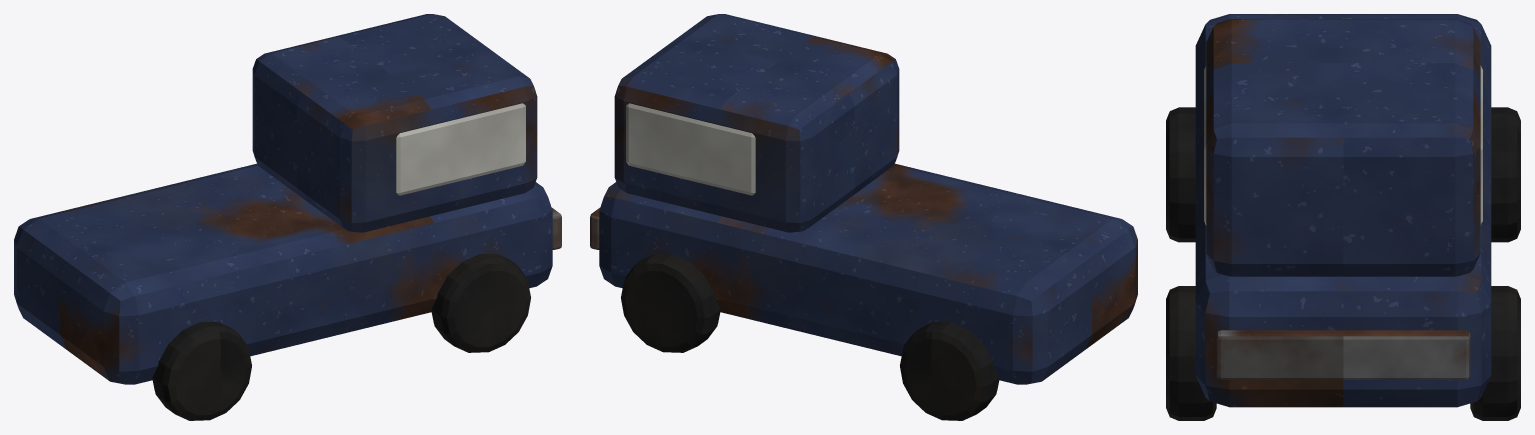
File: T10_toy_car_v2.glb
The picture shows the model from 3 angles, left to right: view 1: azimuth 30°, elevation 25°; view 2: azimuth 150°, elevation 25°; view 3: azimuth 270°, elevation 25°; orthographic projection. The views are drawn at different scales.
Parts seen in each view (by area): view 1: T10_toy_car_v2; view 2: T10_toy_car_v2; view 3: T10_toy_car_v2.
Part boxes in pixels (bbox=[...]): T10_toy_car_v2: bbox=[14, 14, 561, 420]; T10_toy_car_v2: bbox=[590, 14, 1137, 420]; T10_toy_car_v2: bbox=[1166, 14, 1520, 420].
Size of the model in its own units: 0.2 by 0.1043 by 0.1031.
Materials: 4 (4 with a texture image).
